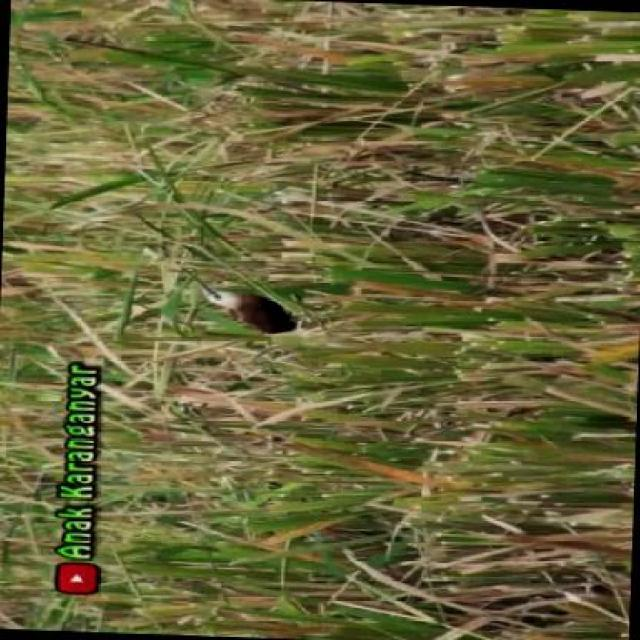Bird: (202, 272, 300, 334)
